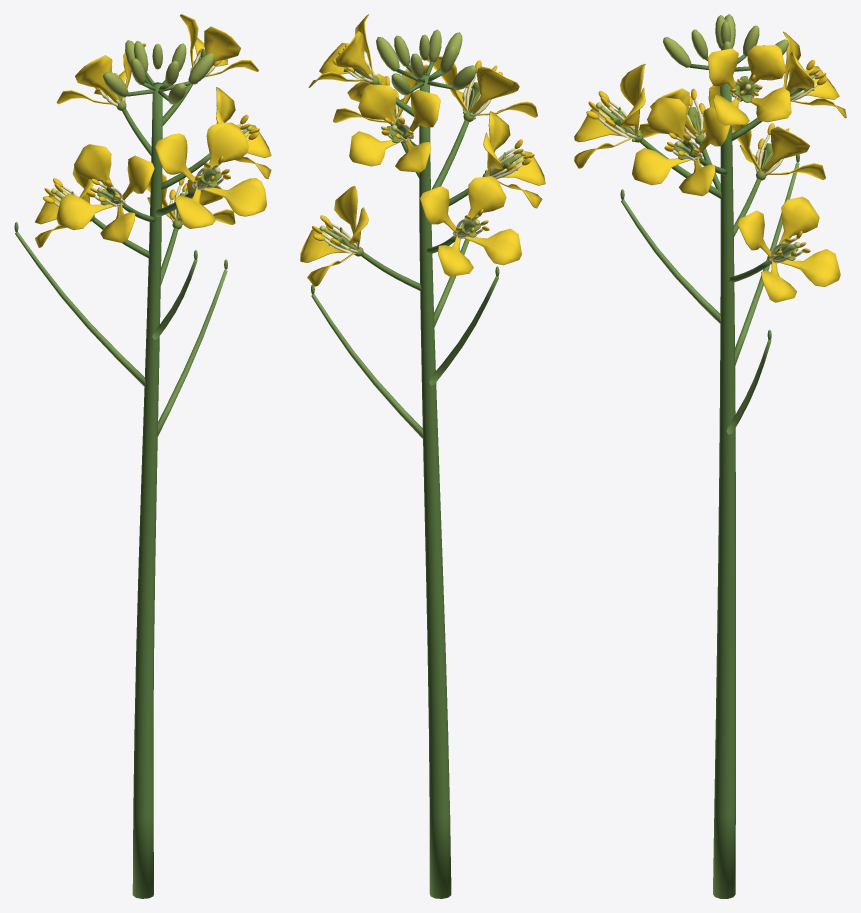
The model's file is flower-brassica.glb.
3 renders of one model, left to right at view 1: azimuth 30°, elevation 25°; view 2: azimuth 150°, elevation 25°; view 3: azimuth 270°, elevation 25°, orthographic. The views are drawn at different scales.
Visible parts, largest first — view 1: raceme_flowers, stem, hero_petals, buds, pods; view 2: raceme_flowers, stem, buds, pods, hero_petals, hero_pedicel; view 3: raceme_flowers, stem, pods, hero_petals, buds, hero_stamens.
Part boxes in pixels (x1,y1,x2,y2): raceme_flowers: (35,14,271,285); stem: (132,82,162,898); hero_petals: (155,122,266,228); buds: (103,40,214,104); pods: (14,222,227,436); raceme_flowers: (300,14,545,290); stem: (419,73,451,898); buds: (376,29,476,95); pods: (311,169,499,438); hero_petals: (426,56,537,117); hero_pedicel: (431,120,469,189); raceme_flowers: (632,31,846,302); stem: (713,83,735,898); pods: (620,154,799,434); hero_petals: (574,64,645,168); buds: (663,14,788,71); hero_stamens: (586,91,637,139).
Size of the model in its own units: 3.51 by 13.68 by 3.83.
